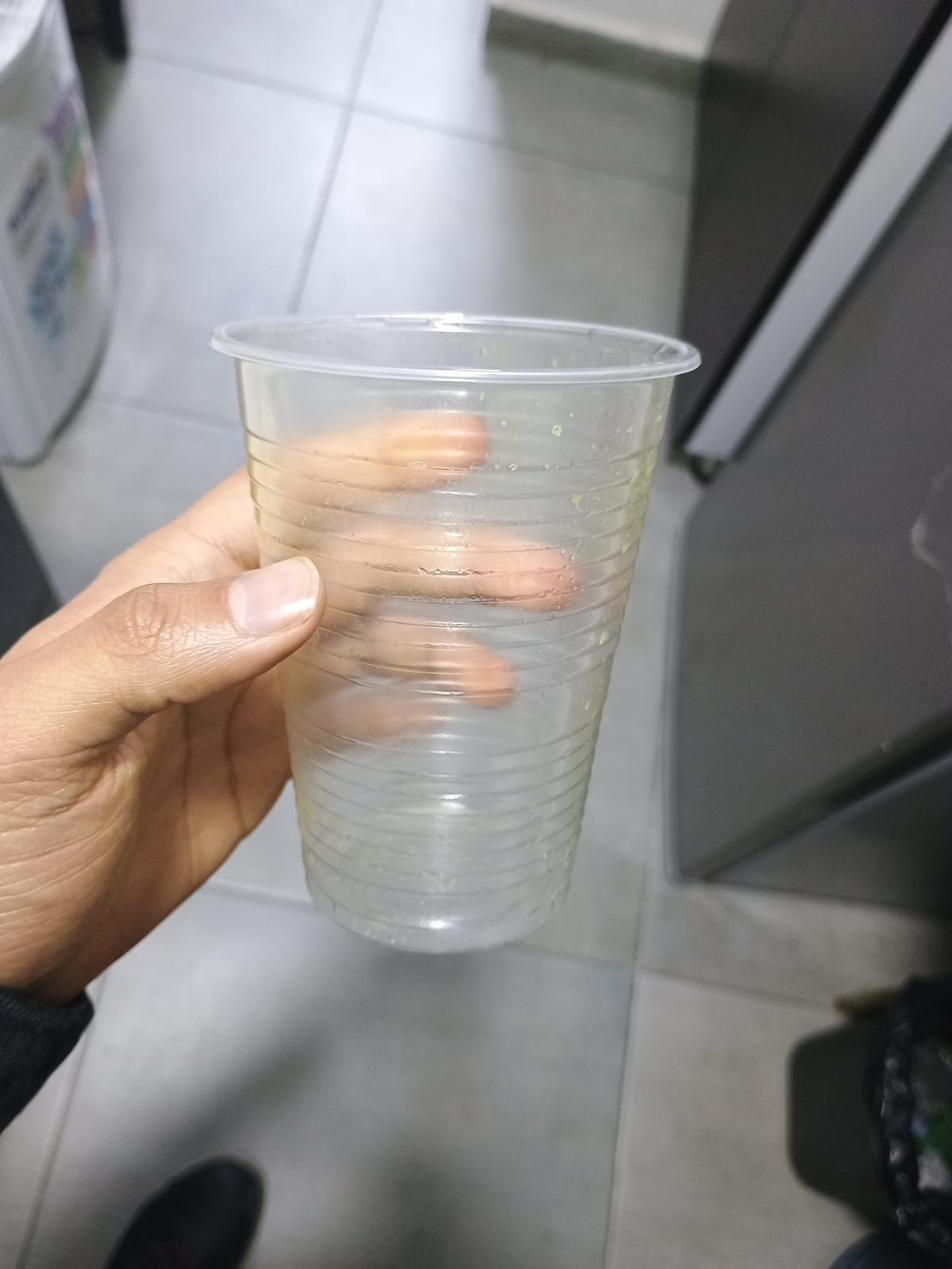Plastico: (211, 313, 703, 958)
